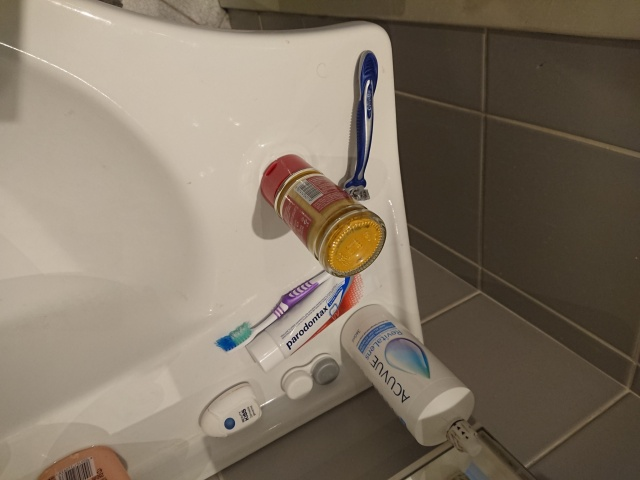Kotanyi Curry Spices Mix 70g: (257, 152, 388, 280)
